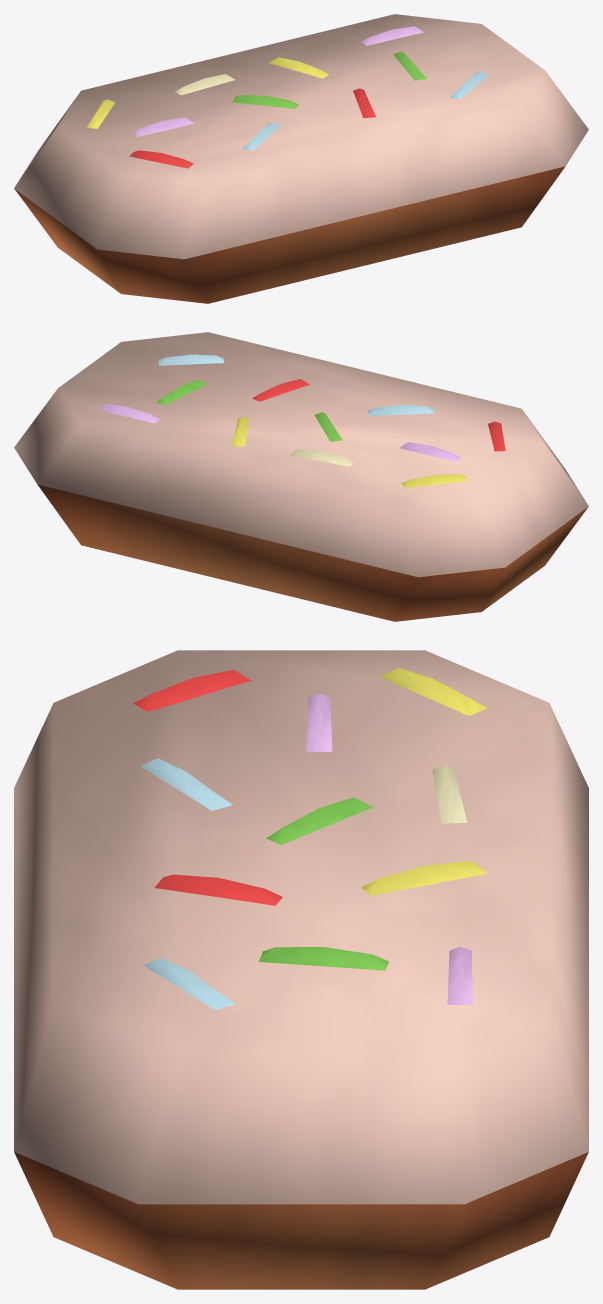
File: Doughnut_Bar_A_2.FBX
3 renders of one model, top to bottom at view 1: azimuth 30°, elevation 25°; view 2: azimuth 150°, elevation 25°; view 3: azimuth 270°, elevation 25°, orthographic. The views are drawn at different scales.
Visible parts, largest first — view 1: Doughnut_Bar; view 2: Doughnut_Bar; view 3: Doughnut_Bar.
Part boxes in pixels (bbox=[...]): Doughnut_Bar: bbox=[14, 14, 588, 303]; Doughnut_Bar: bbox=[14, 332, 588, 621]; Doughnut_Bar: bbox=[14, 650, 588, 1289].
Size of the model in its own units: 75.48 by 18.74 by 39.15.
